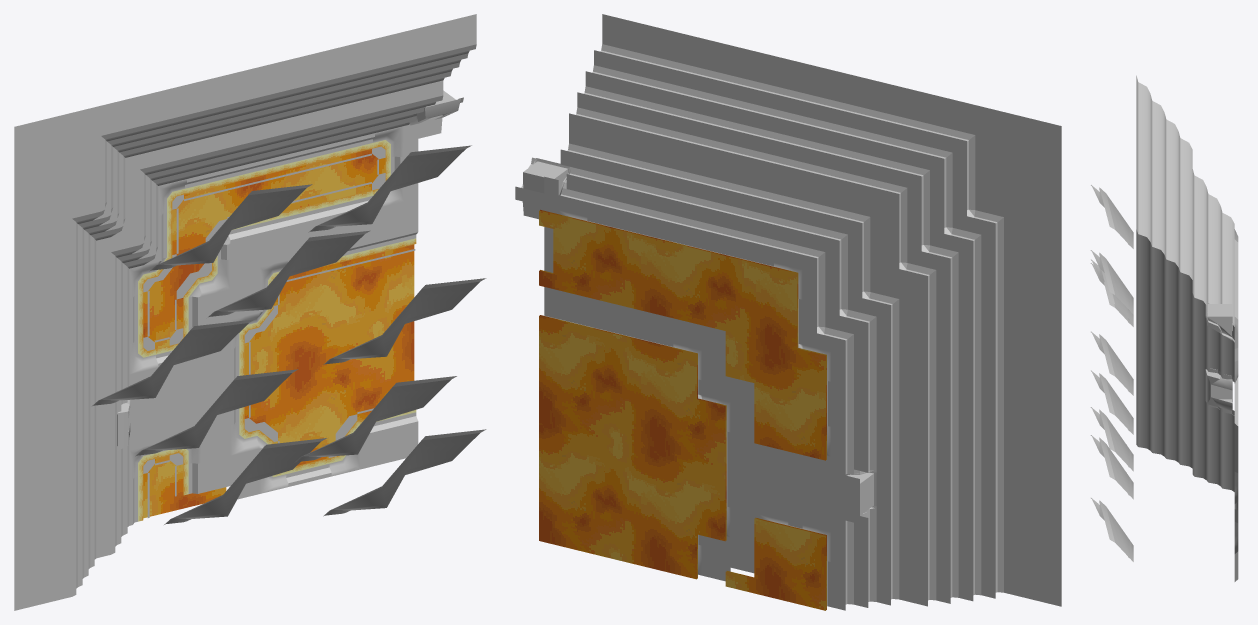
Rendered from Mount-Undara-4_00_00.obj.
3 renders of one model, left to right at view 1: azimuth 30°, elevation 25°; view 2: azimuth 150°, elevation 25°; view 3: azimuth 270°, elevation 25°, orthographic. The views are drawn at different scales.
Visible parts, largest first — view 1: map; view 2: map; view 3: map.
Boxes of the visible parts, left/top/right/bottom form: map: left=14, top=14, right=486, bottom=610; map: left=515, top=14, right=1061, bottom=610; map: left=1090, top=75, right=1238, bottom=581.
Size of the model in its own units: 34 by 32 by 10.9.
